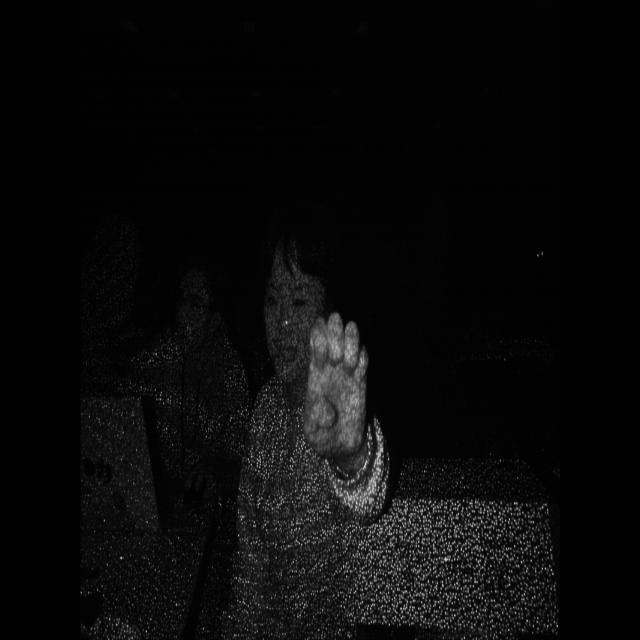E: (295, 304, 380, 472)
